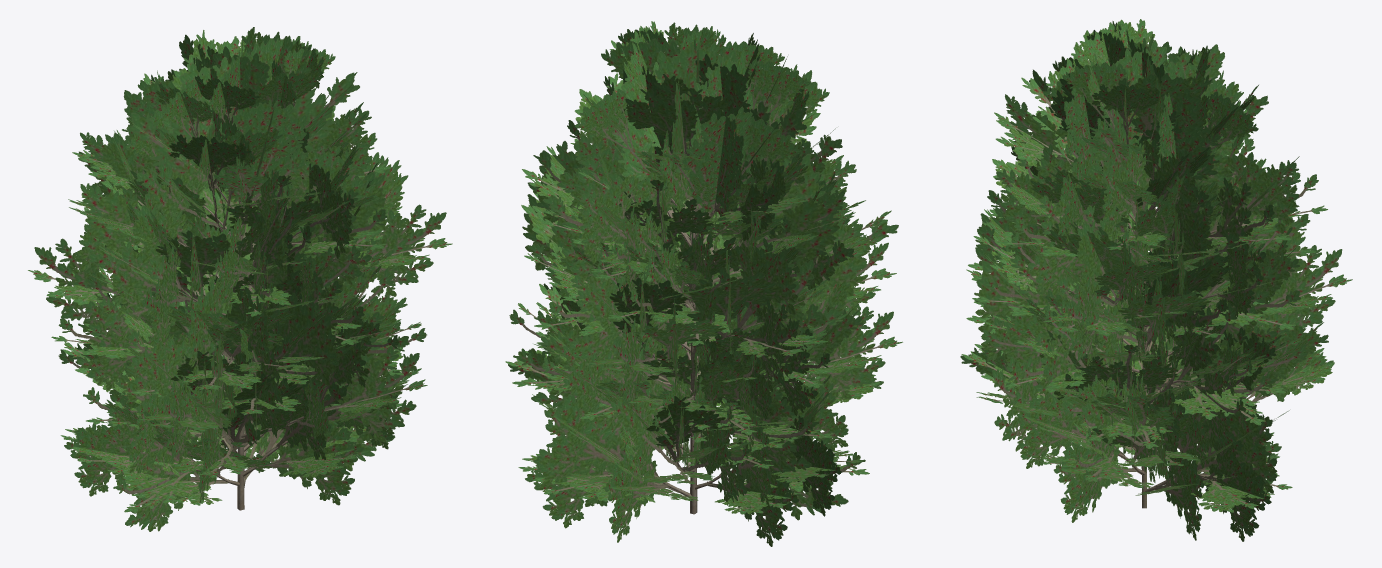
Rendered from RhamnusAlaternus.glb.
3 views of the same model, side by side, from view 1: azimuth 30°, elevation 25°; view 2: azimuth 150°, elevation 25°; view 3: azimuth 270°, elevation 25° (orthographic). The views are drawn at different scales.
Visible parts, largest first — view 1: Mediterranean_Buckthorn__Realistic_LOD3; view 2: Mediterranean_Buckthorn__Realistic_LOD3; view 3: Mediterranean_Buckthorn__Realistic_LOD3.
Part boxes in pixels (left/top/right/bottom): Mediterranean_Buckthorn__Realistic_LOD3: left=28, top=27, right=452, bottom=531; Mediterranean_Buckthorn__Realistic_LOD3: left=505, top=21, right=902, bottom=546; Mediterranean_Buckthorn__Realistic_LOD3: left=960, top=19, right=1352, bottom=541.
Size of the model in its own units: 3.43 by 4.44 by 3.38.
Materials: 1 (1 with a texture image).
